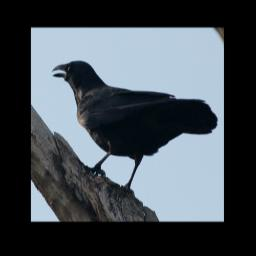Crow: (49, 59, 218, 196)
